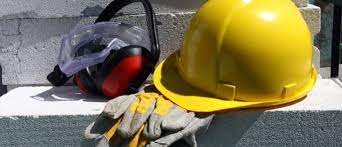Helmet: (154, 2, 305, 115)
